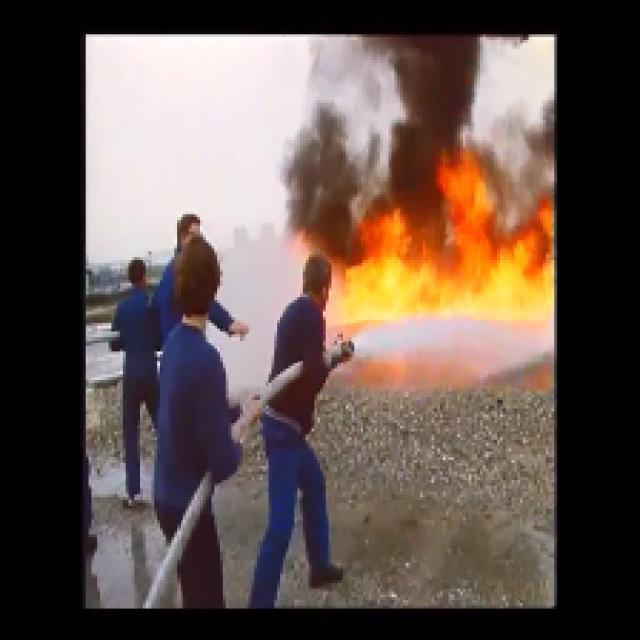Fire: (357, 223, 547, 319)
Smoke: (390, 48, 450, 212)
